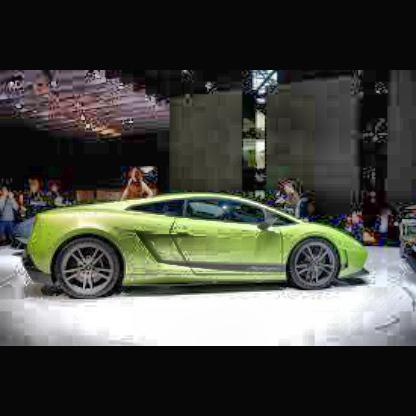Lamborghini Gallardo LP 570-4 Superleggera 2012: (7, 191, 374, 305)
